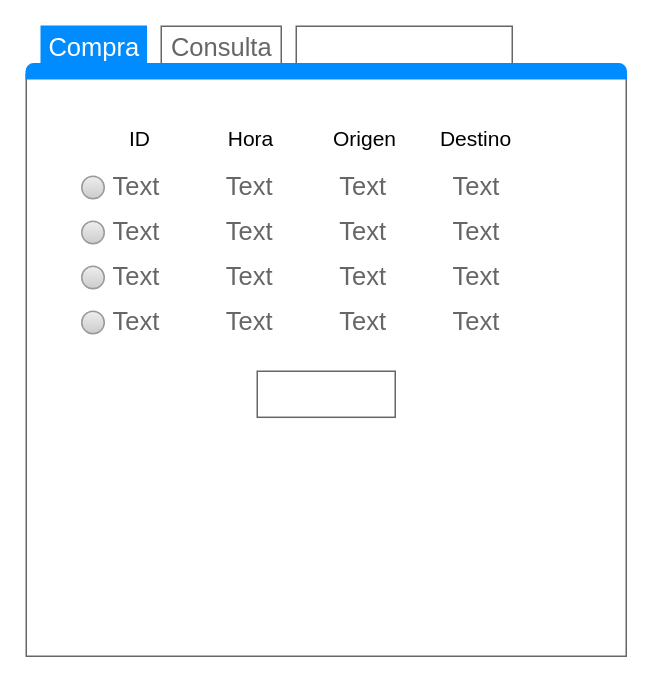
Some shapes in this 653 by 683 pixel diagram are drawn without their labels. The box of each missing label's shape, as (x1, y1, x2, y2) in pixels:
Agregar servicio: (295, 25, 512, 71)
Ver Asientos: (256, 370, 395, 417)
